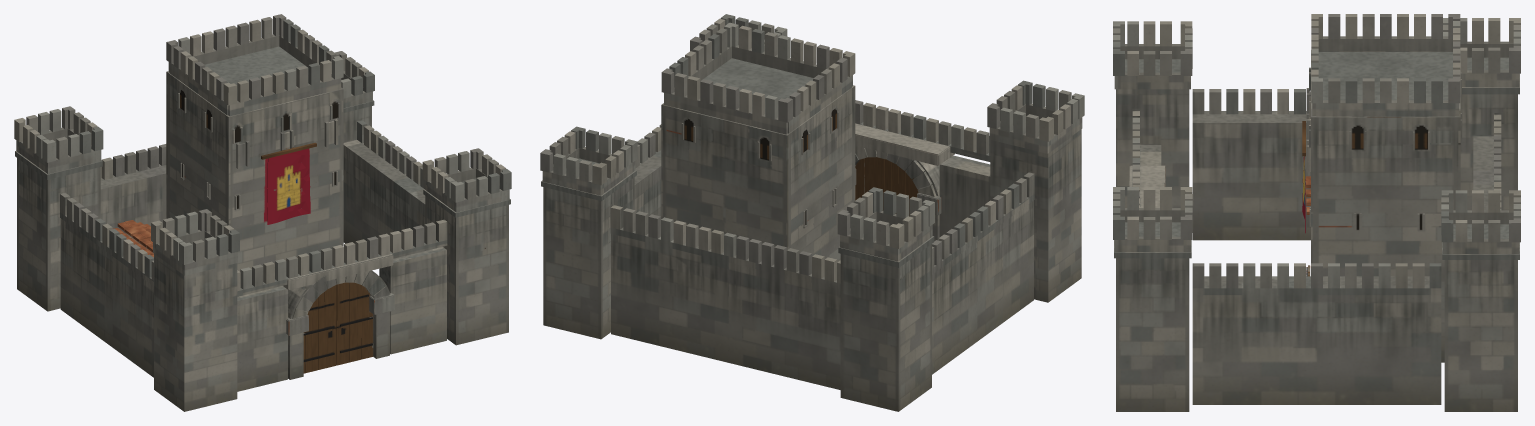
The model's file is SM_CastillaV11_LOD1.fbx.
The picture shows the model from 3 angles, left to right: view 1: azimuth 30°, elevation 25°; view 2: azimuth 150°, elevation 25°; view 3: azimuth 270°, elevation 25°; orthographic projection. The views are drawn at different scales.
Visible parts, largest first — view 1: SM_CastillaV11_LOD1; view 2: SM_CastillaV11_LOD1; view 3: SM_CastillaV11_LOD1.
Boxes of the visible parts, x1,y1,x2,y2 form: SM_CastillaV11_LOD1: (14,14,511,411); SM_CastillaV11_LOD1: (540,14,1084,411); SM_CastillaV11_LOD1: (1113,14,1520,411).
Size of the model in its own units: 93.72 by 64.17 by 84.1.
Materials: 1 (1 with a texture image).
